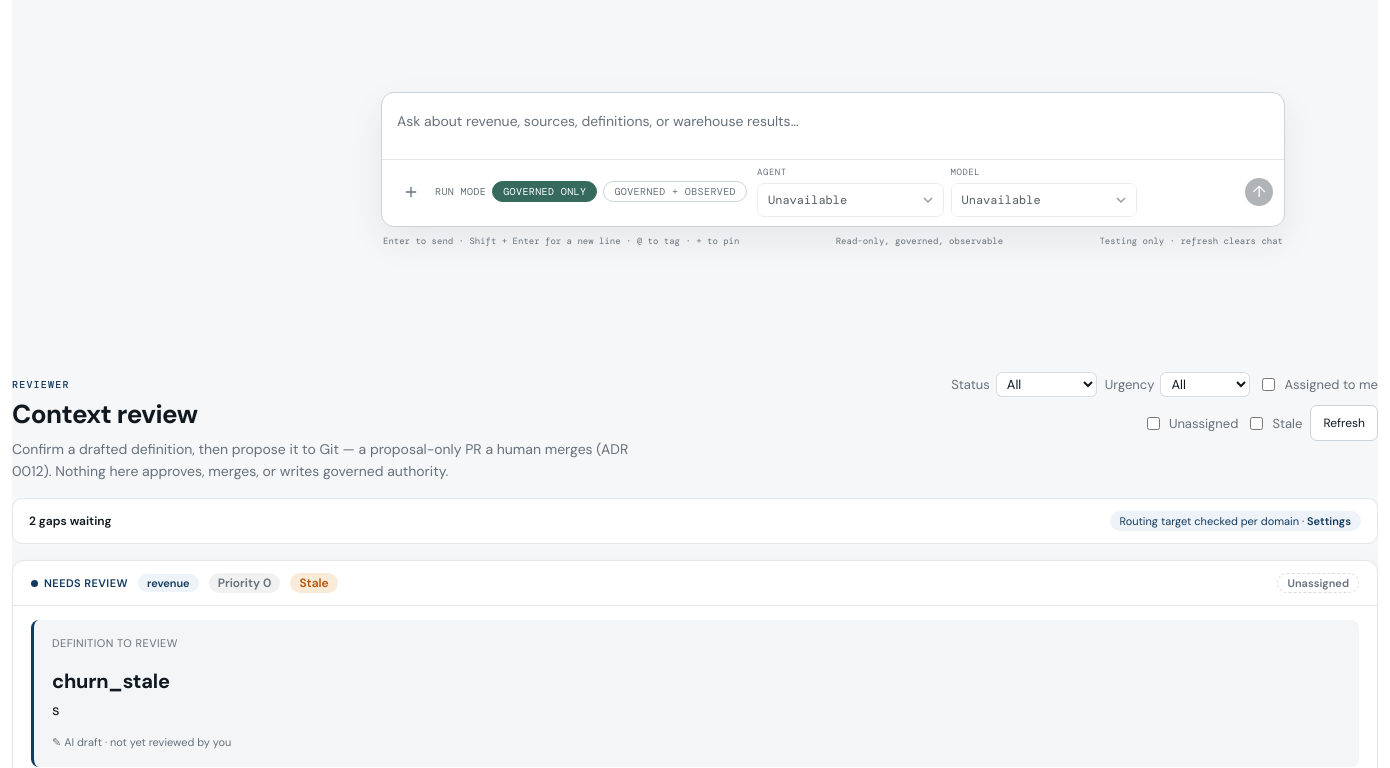
it: ReviewPage filter controls › narrows the queue by status
(page scrolled)
Expected: the text "churn_stale" is shown, [52, 668, 170, 694]
Select "in progress" in the dropdown labelled "Status" at [1046, 384], box [996, 372, 1097, 397]
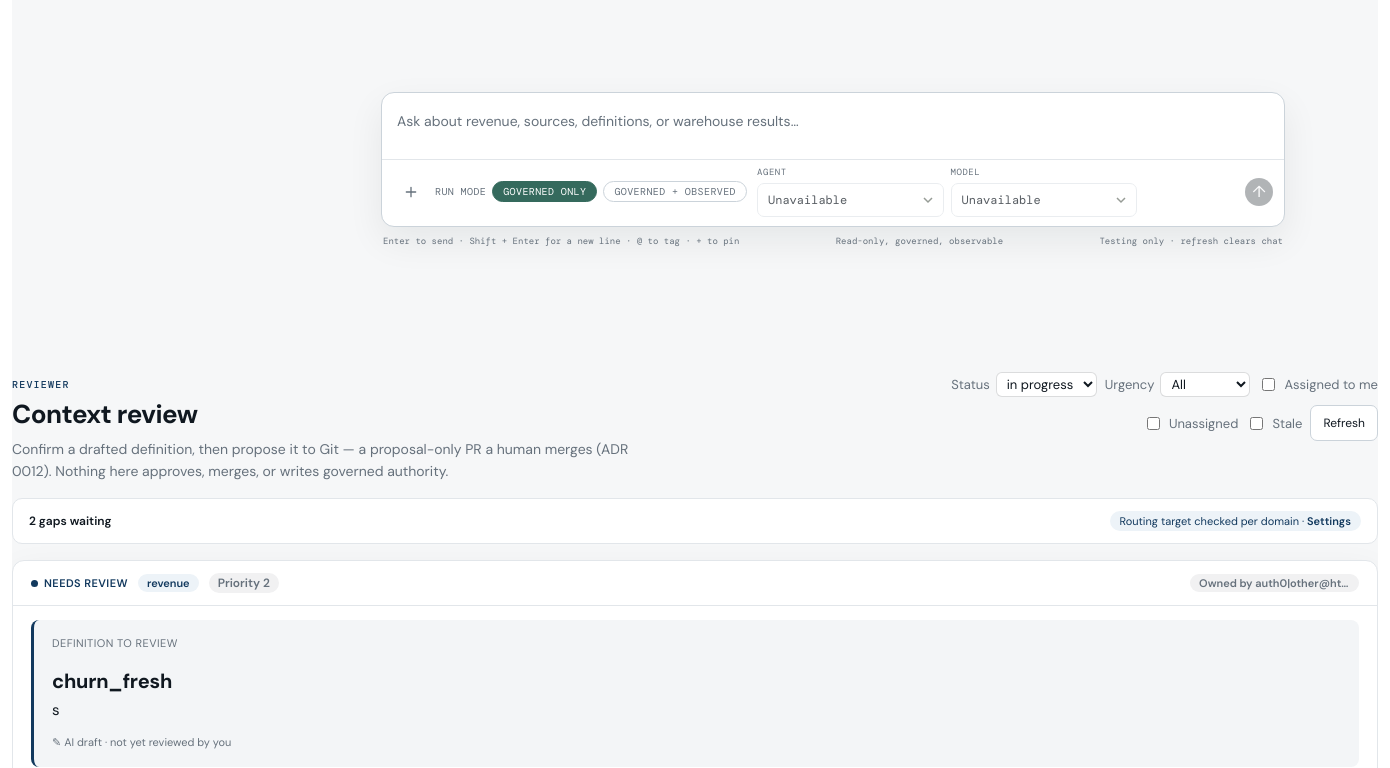
Expected: the text "churn_fresh" is shown, [52, 668, 172, 694]
Now the text "churn_stale" is gone
